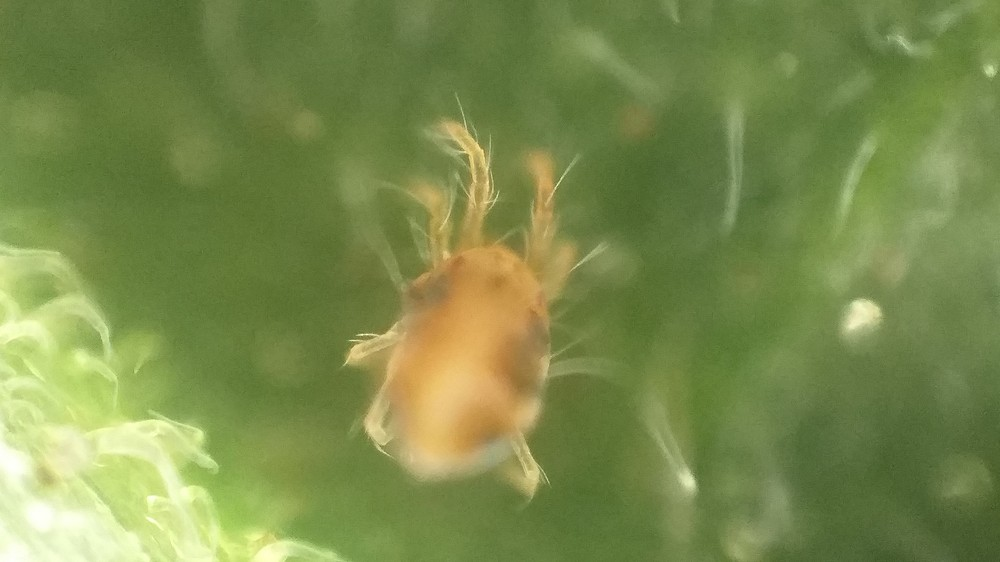Aracnido Rojo: (321, 114, 619, 529)
